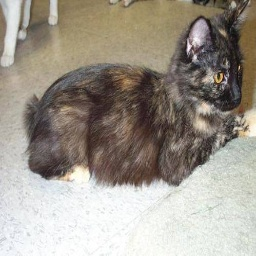cat: (25, 3, 256, 188)
